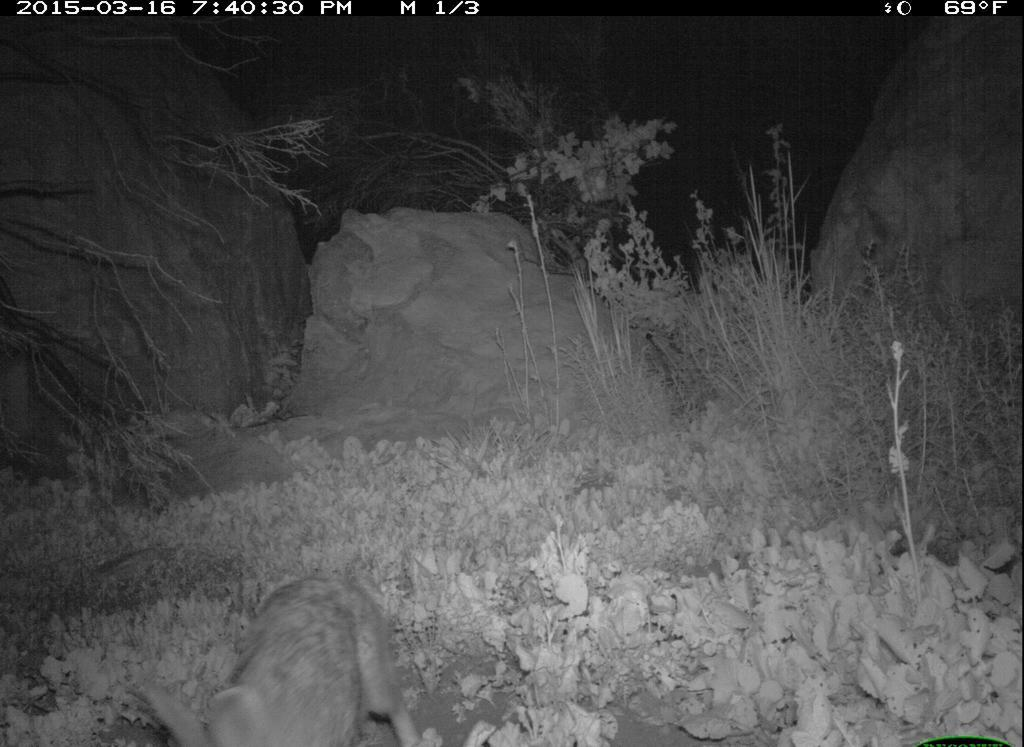rabbit: (145, 568, 428, 747)
